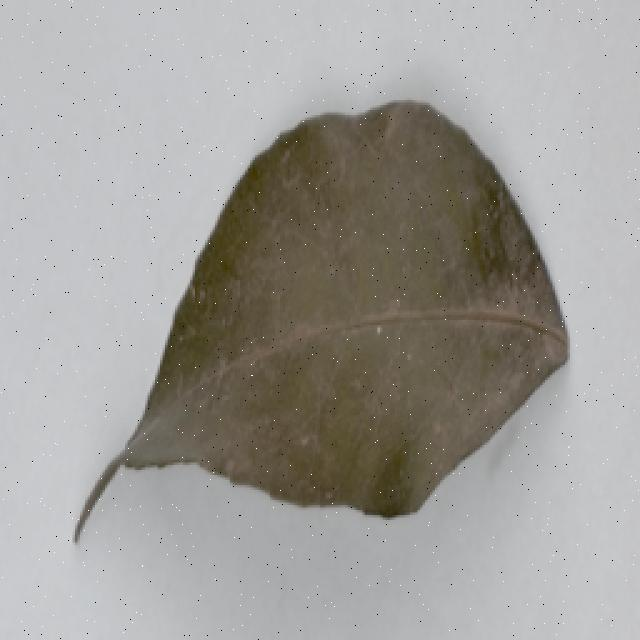healthy: (62, 88, 571, 571)
